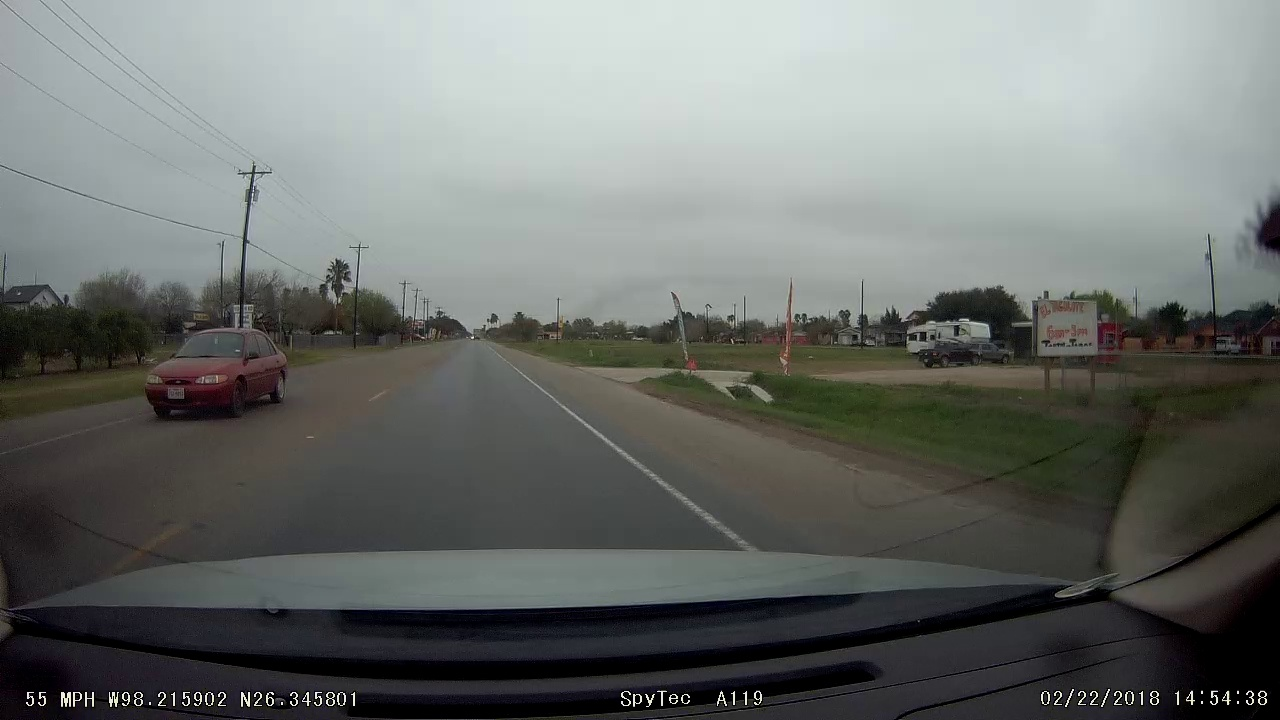blurredLine: (128, 515, 222, 558)
